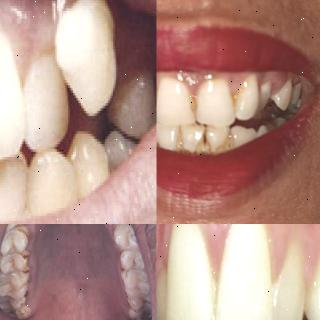calculus: (192, 130, 214, 156), (172, 125, 190, 152), (218, 134, 242, 154)
cavities: (138, 292, 150, 314), (8, 305, 20, 319), (142, 305, 152, 320)
maligned: (44, 0, 125, 108), (28, 58, 77, 148), (26, 150, 84, 214), (266, 242, 310, 320), (156, 270, 178, 320), (250, 77, 276, 116)
stains: (0, 301, 34, 320), (117, 260, 137, 292), (224, 87, 246, 115), (8, 250, 30, 274), (185, 90, 205, 116), (13, 227, 31, 250), (115, 248, 135, 268), (108, 224, 126, 244), (21, 265, 33, 292), (125, 294, 141, 314), (17, 288, 29, 308), (156, 86, 164, 112), (15, 224, 31, 230)
